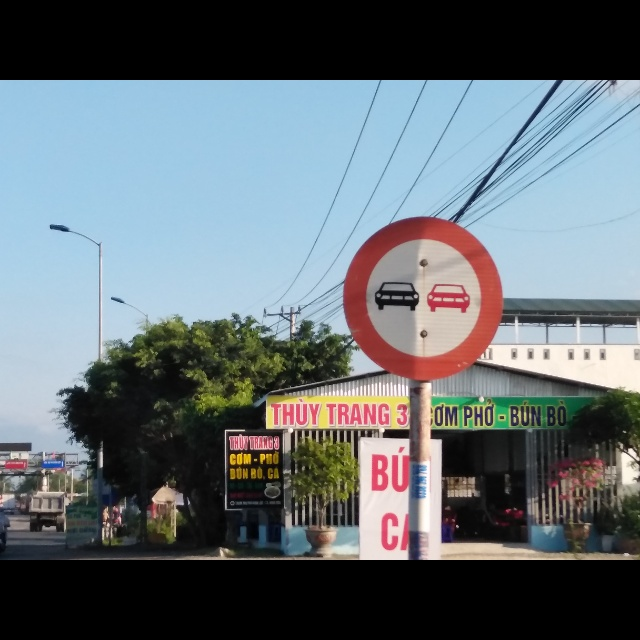Cấm vượt: (341, 215, 502, 379)
